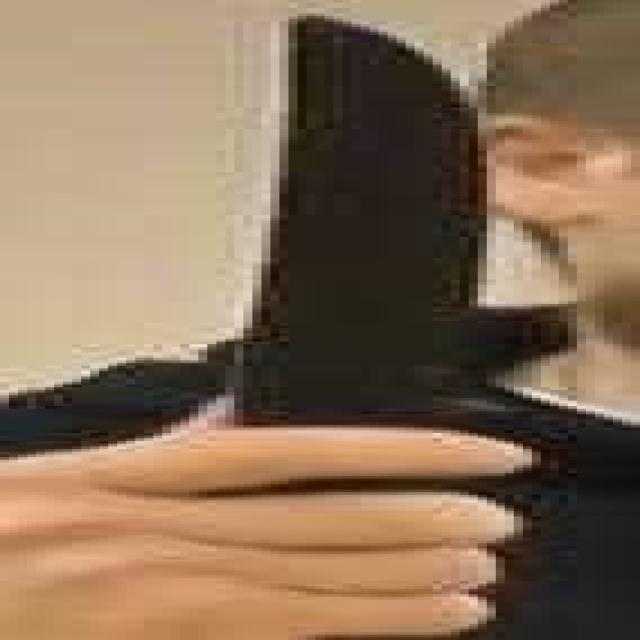Knife: (174, 0, 538, 592)
